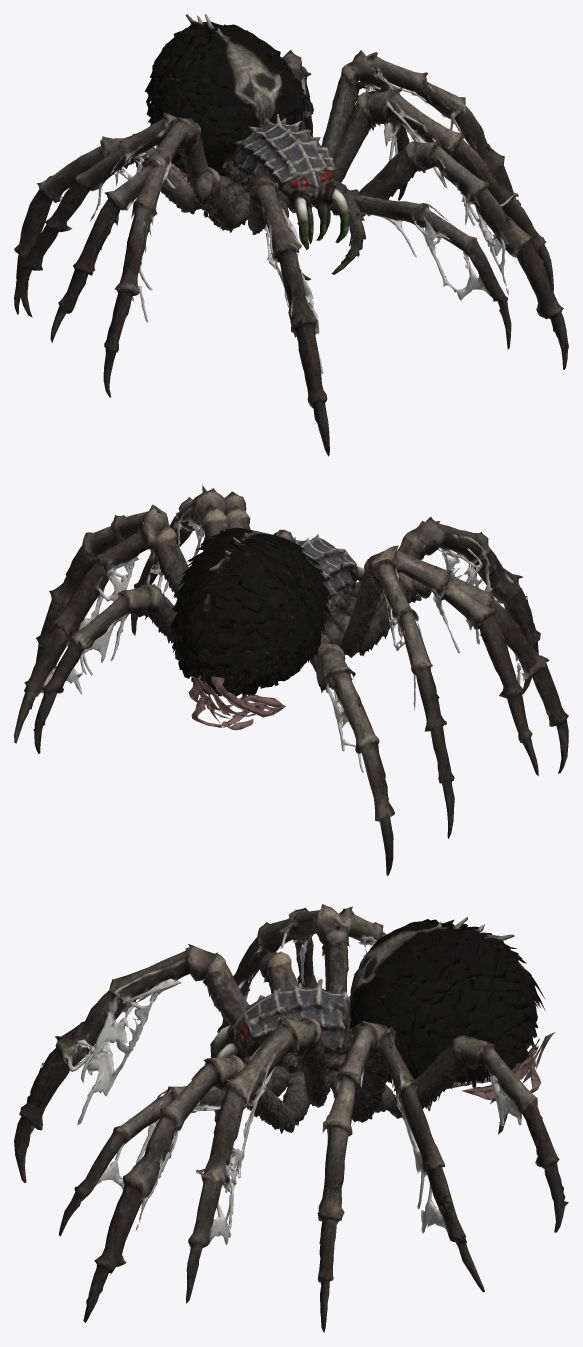
File: паук.glb
3 views of the same model, one above another, from view 1: azimuth 30°, elevation 25°; view 2: azimuth 150°, elevation 25°; view 3: azimuth 270°, elevation 25° (orthographic). The views are drawn at different scales.
Parts seen in each view (by area): view 1: geometry_0; view 2: geometry_0; view 3: geometry_0.
Boxes of the visible parts, x1,y1,x2,y2 form: geometry_0: (14,14,568,456); geometry_0: (14,485,568,875); geometry_0: (14,904,568,1332).
Bounding box in the file's own units: 1.79 × 1 × 1.63.
1 material, 1 textured.
